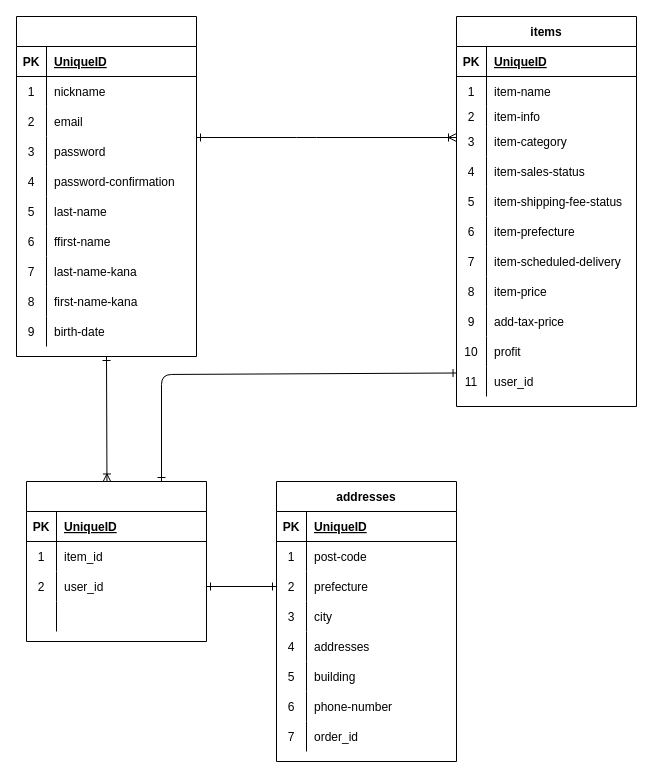
Some shapes in this 653 by 778 pixel diagram are drawn without their labels. Here are the shapes that lost their labels. From the top down, the box of each, then its label:
(16, 16, 196, 356): users
(26, 480, 206, 642): orders
